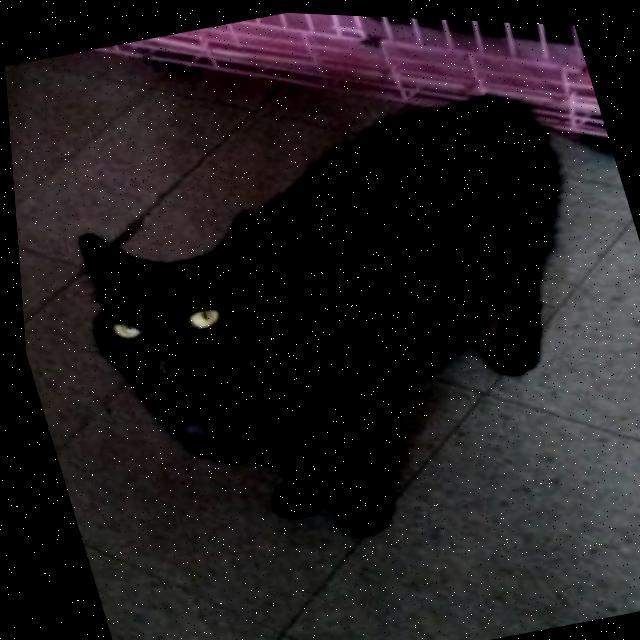American Bobtail: (24, 54, 640, 599)
